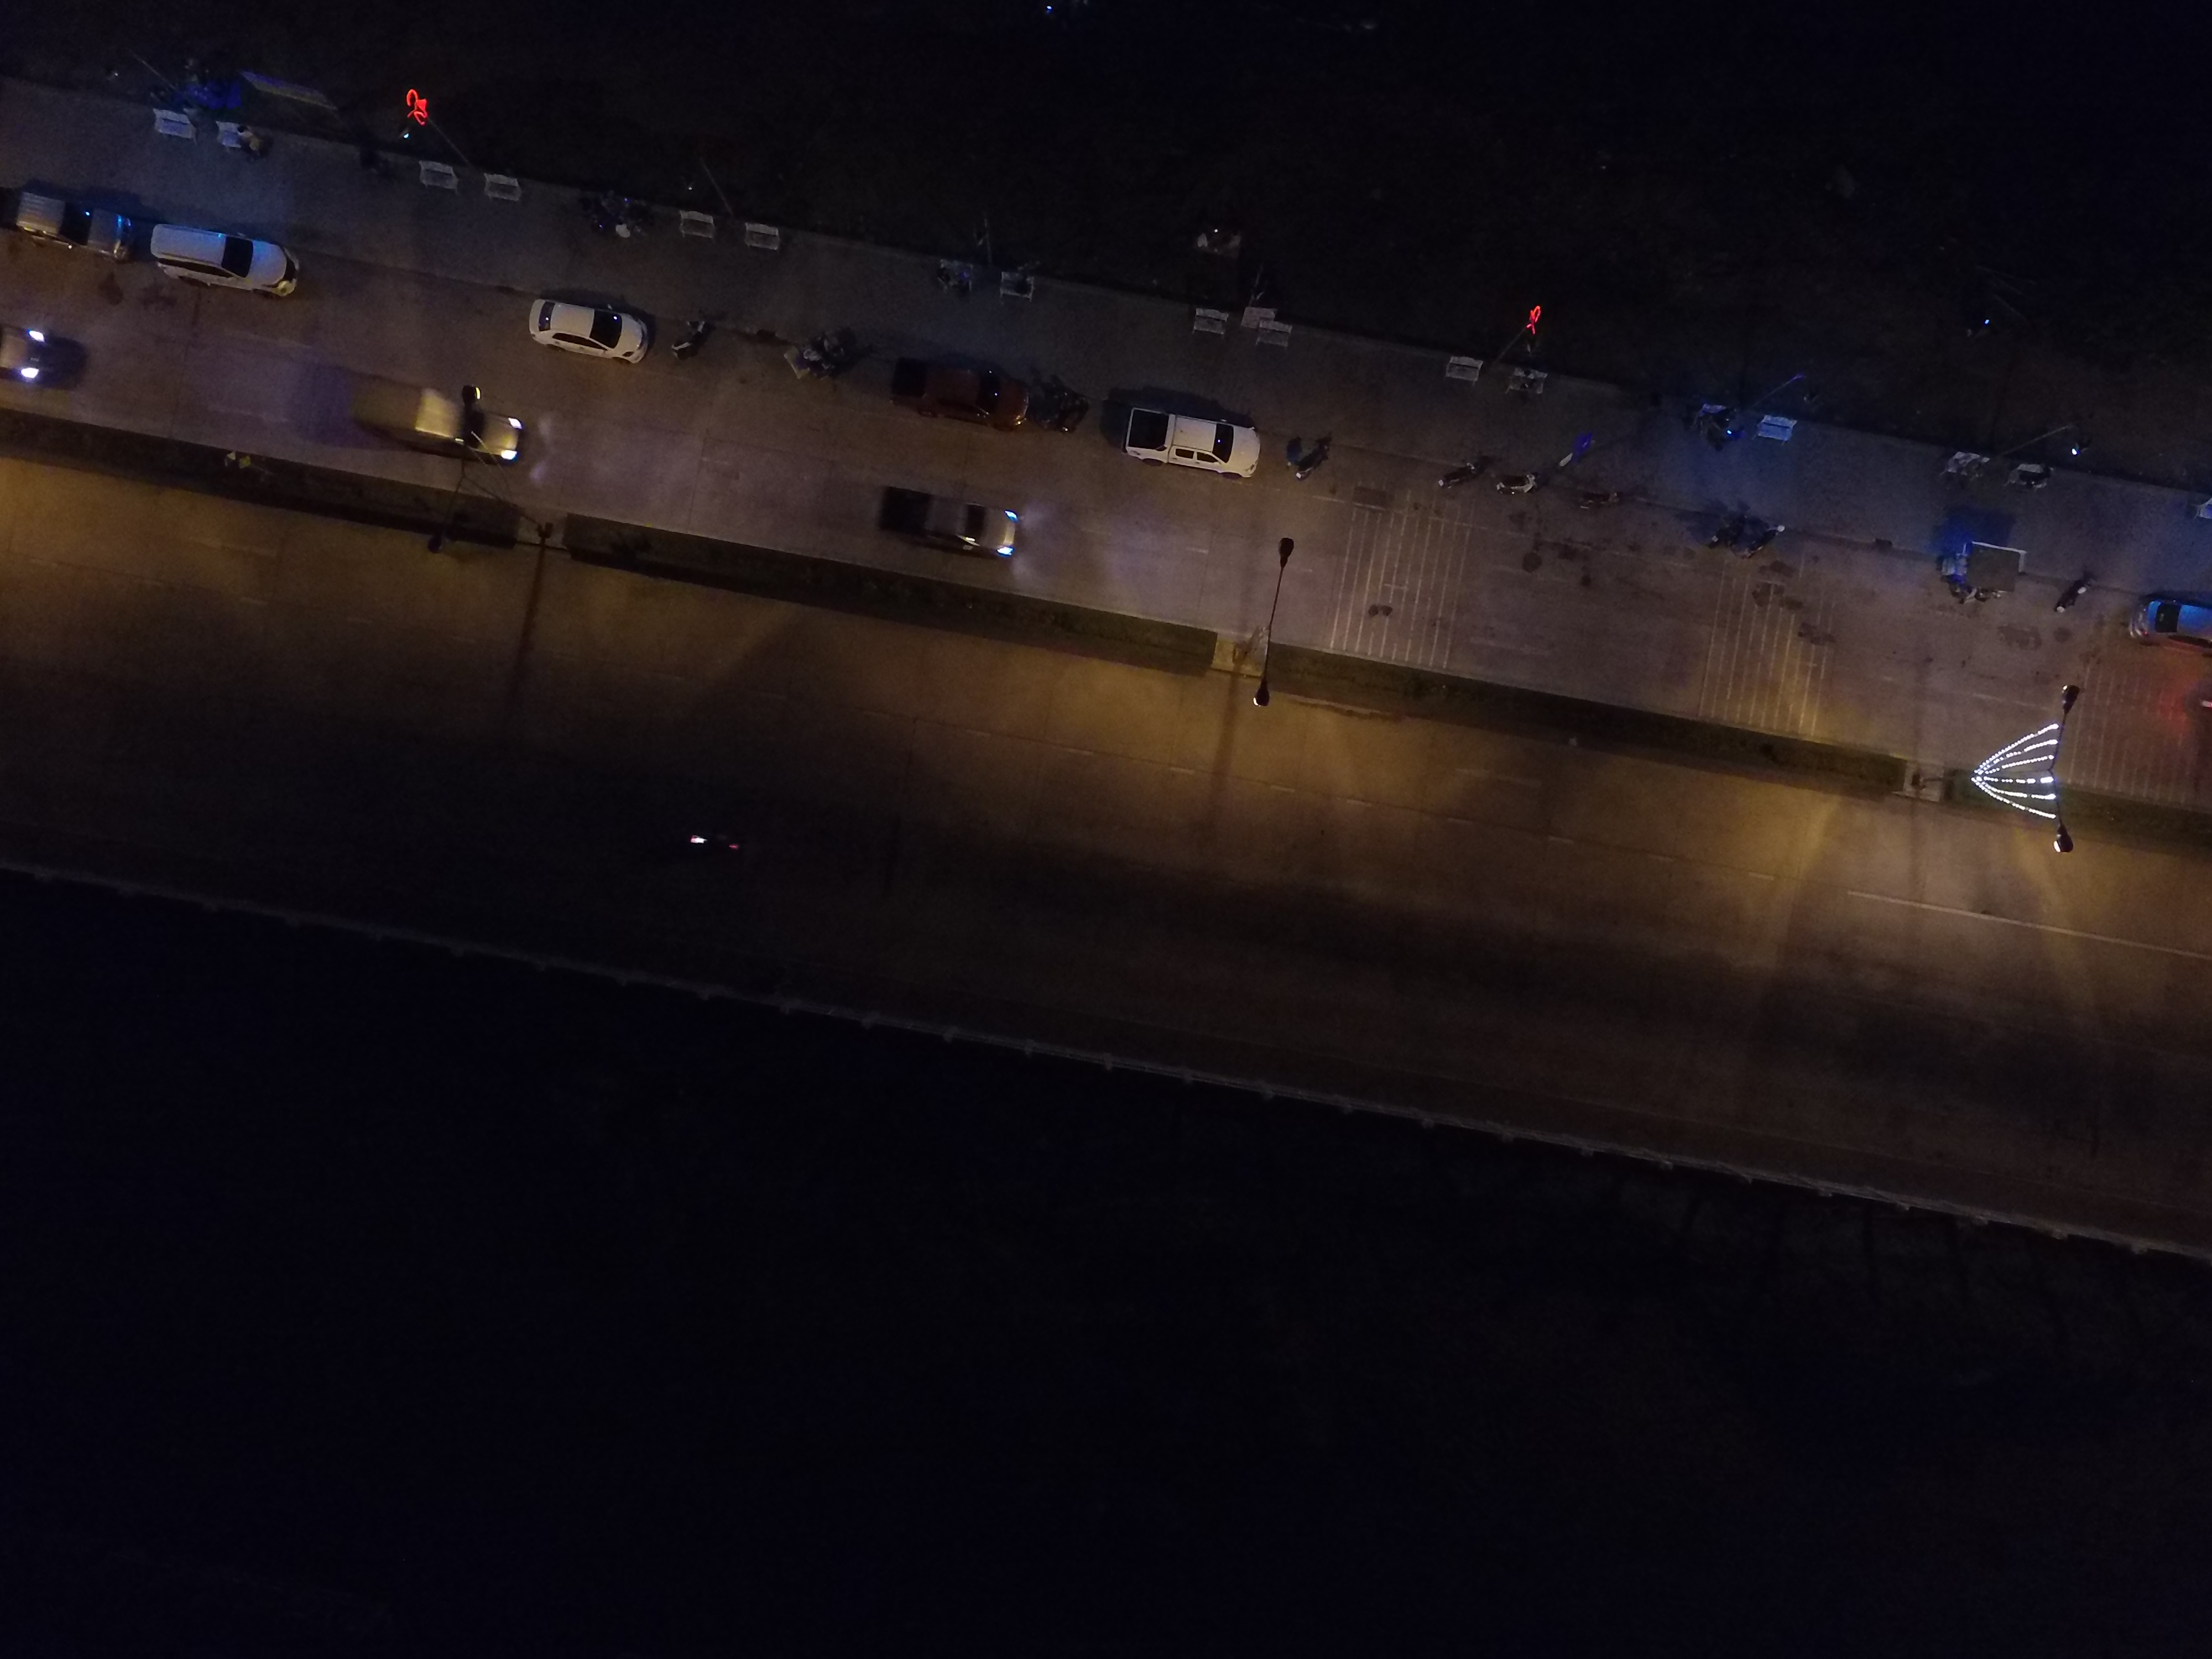car: (1101, 392, 1282, 500), (348, 369, 528, 477), (134, 204, 315, 310), (512, 275, 693, 382), (874, 350, 1055, 457), (880, 479, 1059, 586), (0, 181, 134, 279)
